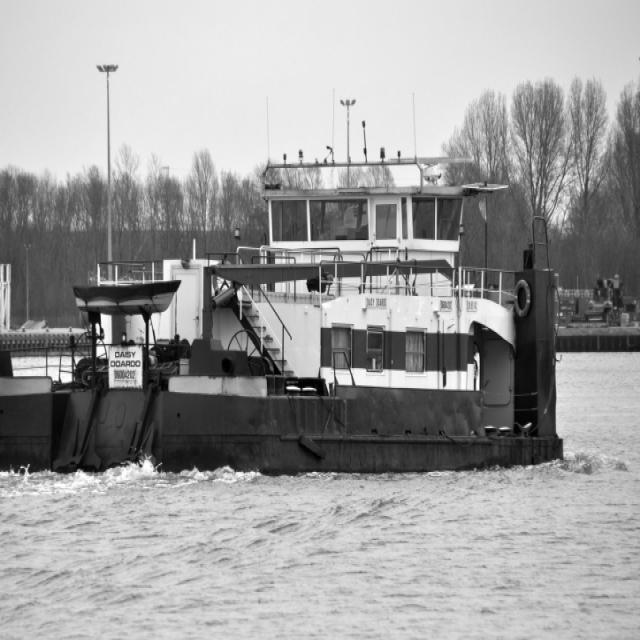tugboat: (1, 146, 570, 487)
